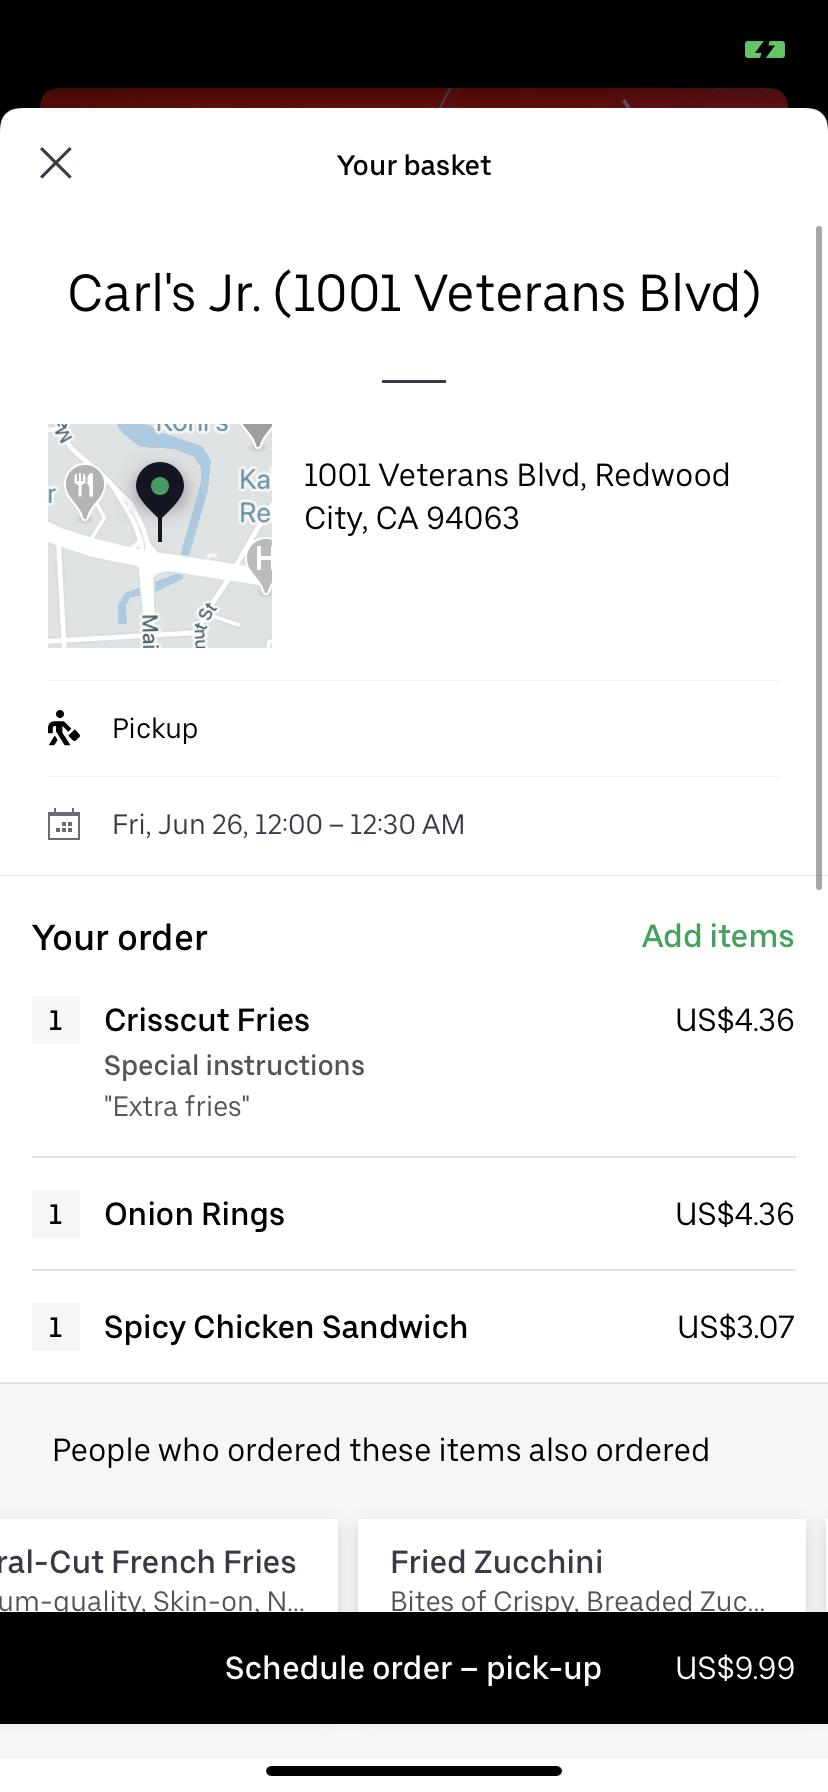Buttons: (1, 1600, 828, 1738), (618, 896, 809, 977)
